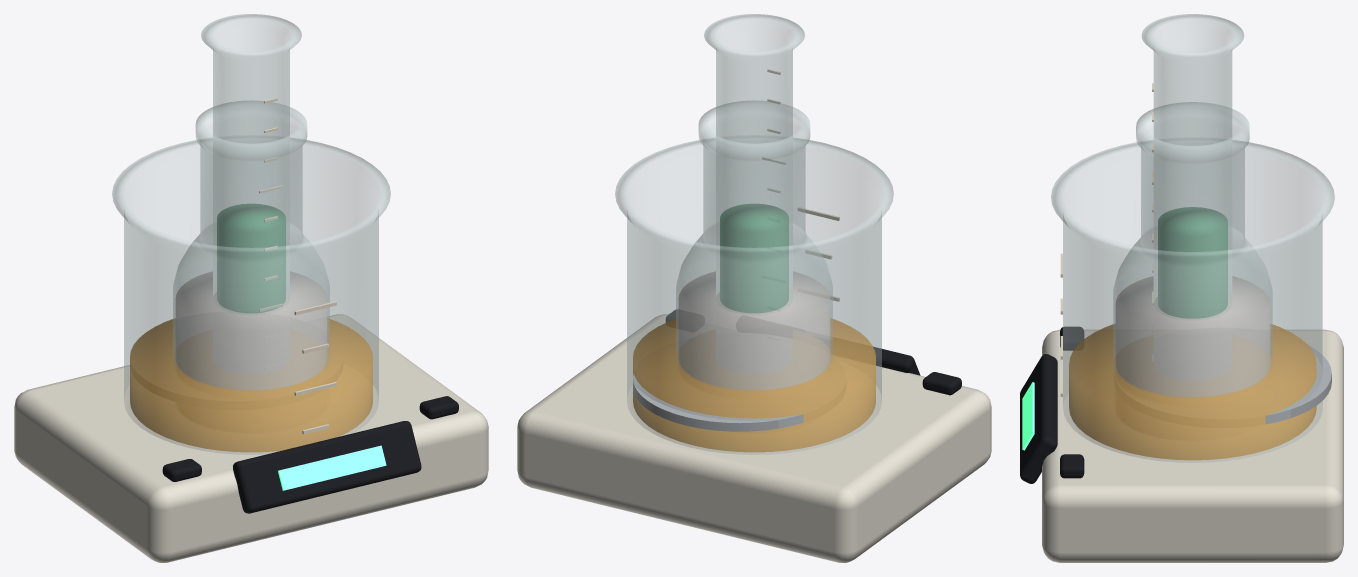
The model's file is labware-v2.glb.
3 renders of one model, left to right at view 1: azimuth 30°, elevation 25°; view 2: azimuth 150°, elevation 25°; view 3: azimuth 270°, elevation 25°, orthographic.
Parts seen in each view (by area): view 1: Laboratory glass (×3), Ivory enamel, Amber solution, Milky solution, Anodised aluminium, Green solution, Balance display, Label; view 2: Laboratory glass (×3), Ivory enamel, Amber solution, Milky solution, Green solution, Brushed steel, Anodised aluminium; view 3: Laboratory glass (×3), Ivory enamel, Amber solution, Milky solution, Green solution, Anodised aluminium, Brushed steel, Balance display.
Boxes of the visible parts, x1=… form: Laboratory glass (×3): x1=112, y1=14, x2=390, y2=454; Ivory enamel: x1=14, y1=314, x2=488, y2=562; Amber solution: x1=130, y1=318, x2=372, y2=452; Milky solution: x1=176, y1=271, x2=326, y2=389; Anodised aluminium: x1=162, y1=396, x2=458, y2=513; Green solution: x1=217, y1=204, x2=285, y2=312; Balance display: x1=278, y1=445, x2=386, y2=490; Label: x1=294, y1=301, x2=336, y2=434; Laboratory glass (×3): x1=615, y1=14, x2=893, y2=454; Ivory enamel: x1=517, y1=314, x2=991, y2=562; Amber solution: x1=633, y1=318, x2=875, y2=452; Milky solution: x1=679, y1=271, x2=829, y2=389; Green solution: x1=720, y1=204, x2=788, y2=312; Brushed steel: x1=633, y1=373, x2=803, y2=431; Anodised aluminium: x1=665, y1=309, x2=961, y2=395; Laboratory glass (×3): x1=1051, y1=14, x2=1334, y2=462; Ivory enamel: x1=1042, y1=329, x2=1343, y2=562; Amber solution: x1=1069, y1=324, x2=1316, y2=460; Milky solution: x1=1116, y1=276, x2=1269, y2=396; Green solution: x1=1158, y1=207, x2=1227, y2=318; Anodised aluminium: x1=1020, y1=326, x2=1084, y2=483; Brushed steel: x1=1265, y1=345, x2=1331, y2=424; Balance display: x1=1022, y1=382, x2=1034, y2=450.
Size of the model in its own units: 0.66 by 0.82 by 0.5362.
